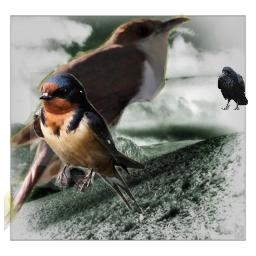Crow: (217, 66, 248, 110)
Cuckoo: (4, 13, 191, 236)
Swallow: (30, 72, 144, 216)
